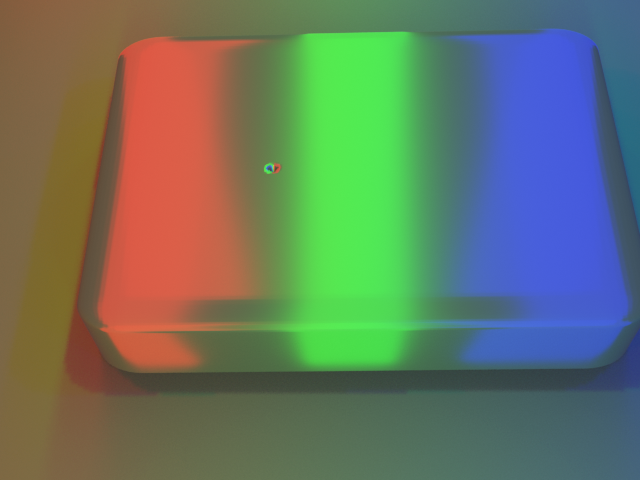dent: (250, 146, 287, 185)
